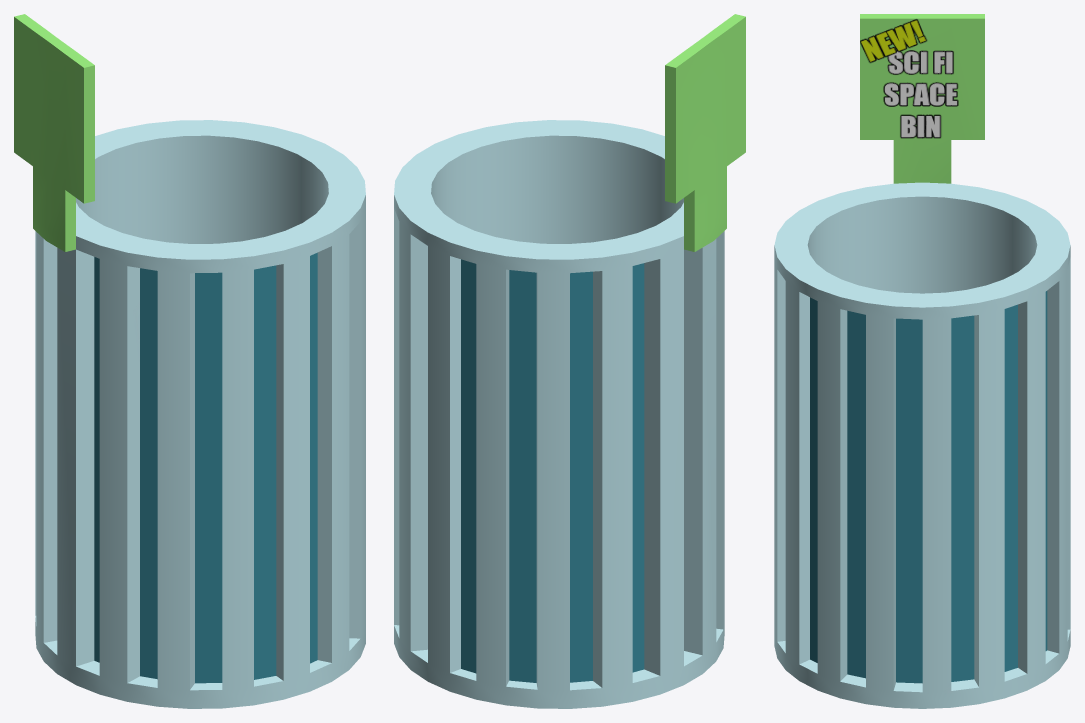
Rendered from space bin.fbx.
3 renders of one model, left to right at view 1: azimuth 30°, elevation 25°; view 2: azimuth 150°, elevation 25°; view 3: azimuth 270°, elevation 25°, orthographic. The views are drawn at different scales.
Parts seen in each view (by area): view 1: Cylinder; view 2: Cylinder; view 3: Cylinder.
Part boxes in pixels (x1,y1,x2,y2): Cylinder: (14,14,365,708); Cylinder: (394,14,745,708); Cylinder: (774,14,1070,708).
Size of the model in its own units: 208 by 422 by 200.
